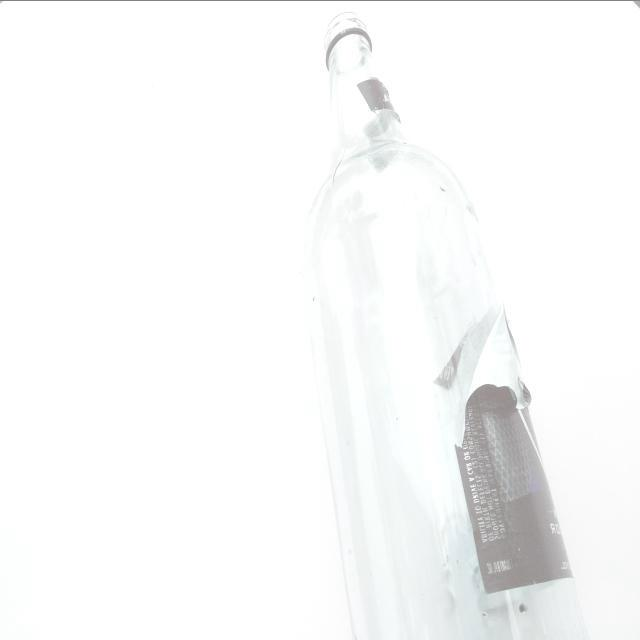glass: (300, 6, 594, 640)
